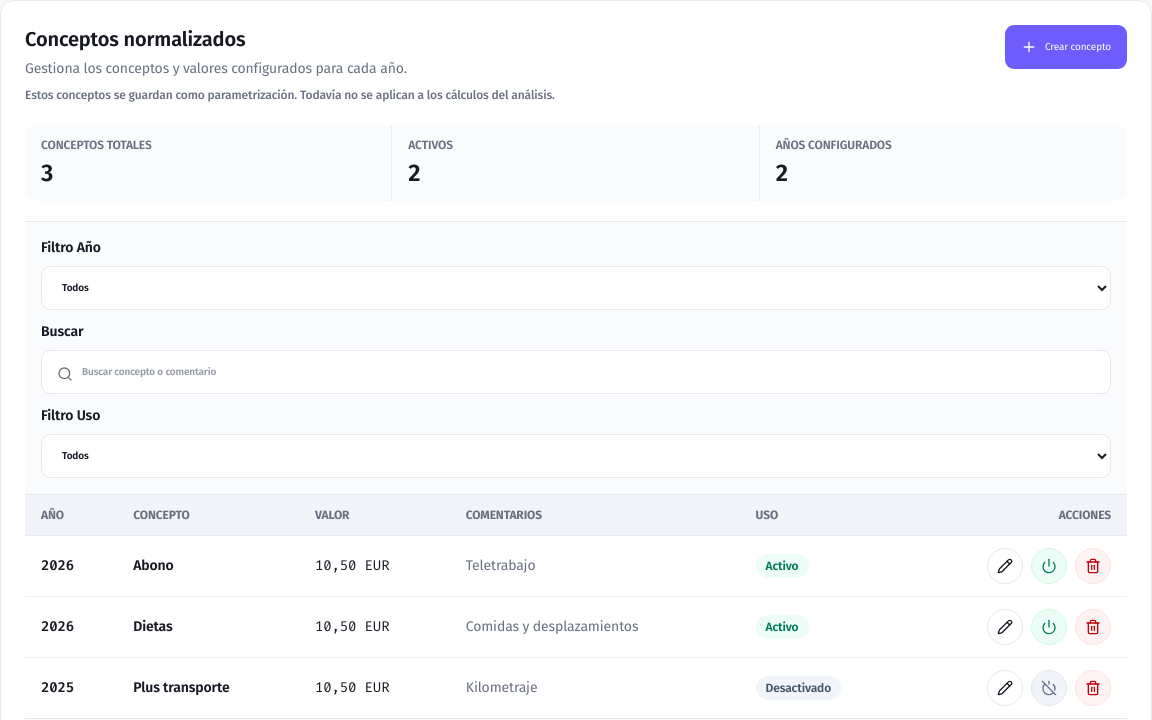
Scenario: NormalizedConceptsManager › filters by year, usage and normalized concept or comment search
Select "2025" in the dropdown labelled "Filtro Año". click: (576, 288)
box: [41, 266, 1111, 310]
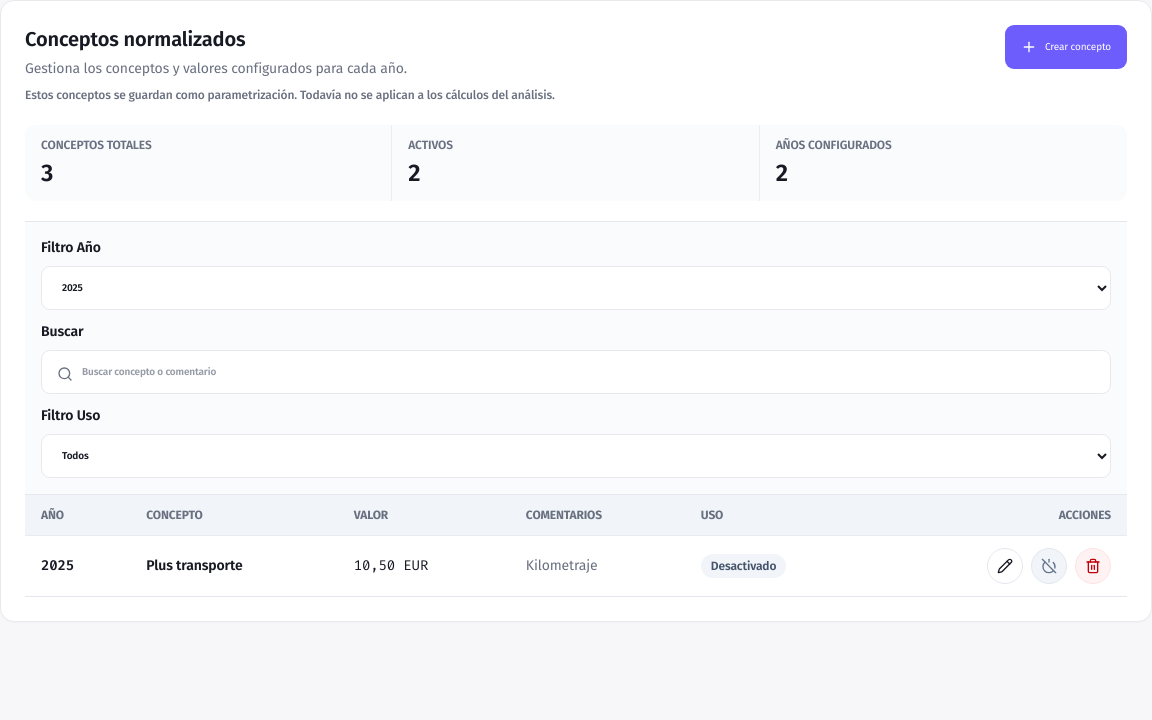
Expected: the text "Plus transporte" is shown, [130, 536, 338, 596]
Expected: the text "Dietas" is gone
Select "Todos" in the dropdown labelled "Filtro Año". click: (576, 288)
box: [41, 266, 1111, 310]
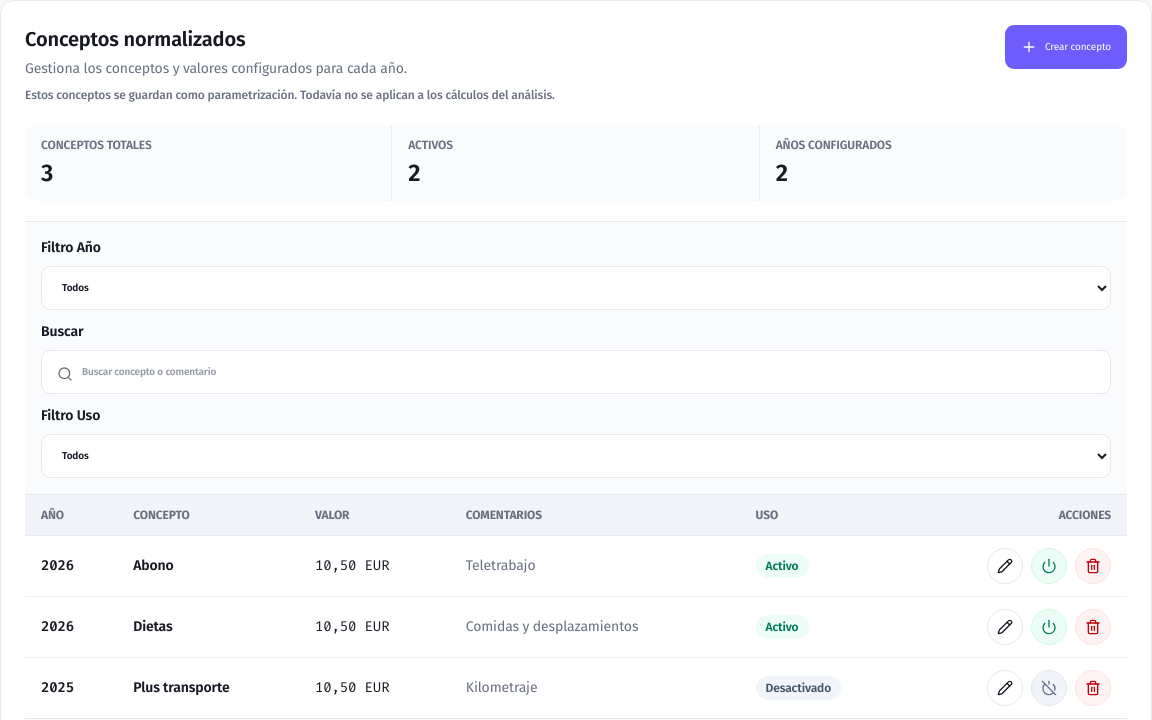
Select "Activos" in the dropdown labelled "Filtro Uso". click: (576, 456)
box: [41, 434, 1111, 478]
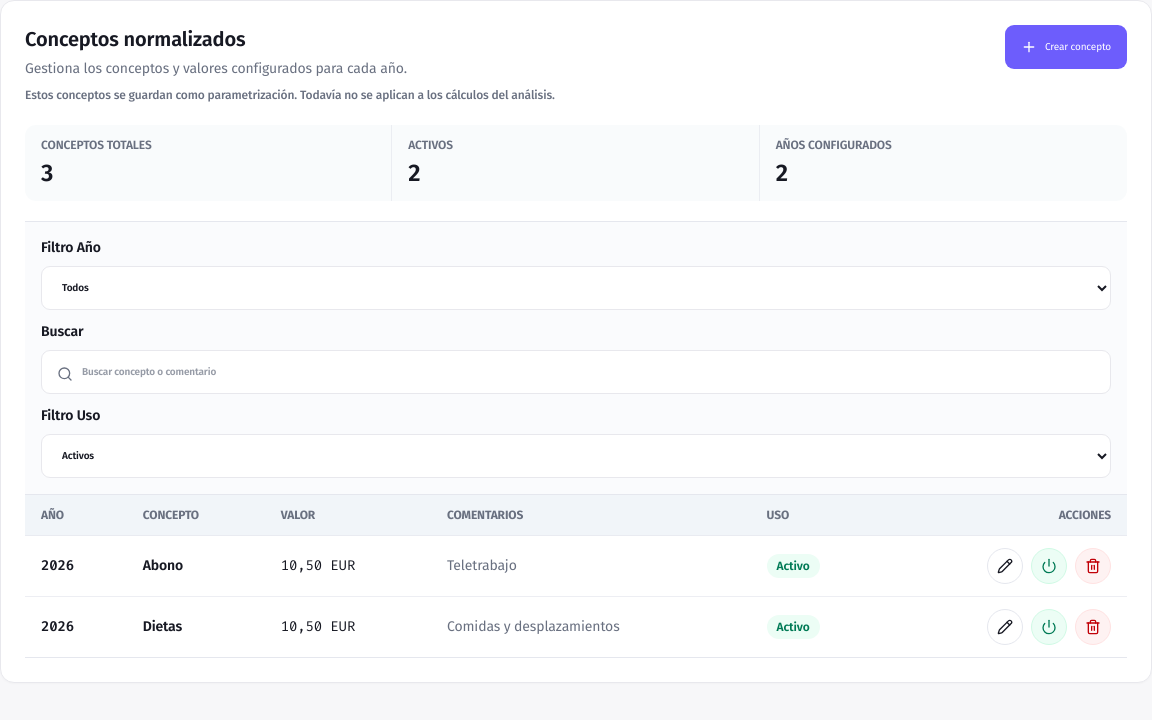
Expected: the text "Plus transporte" is gone
Select "Todos" in the dropdown labelled "Filtro Uso". click: (576, 456)
box: [41, 434, 1111, 478]
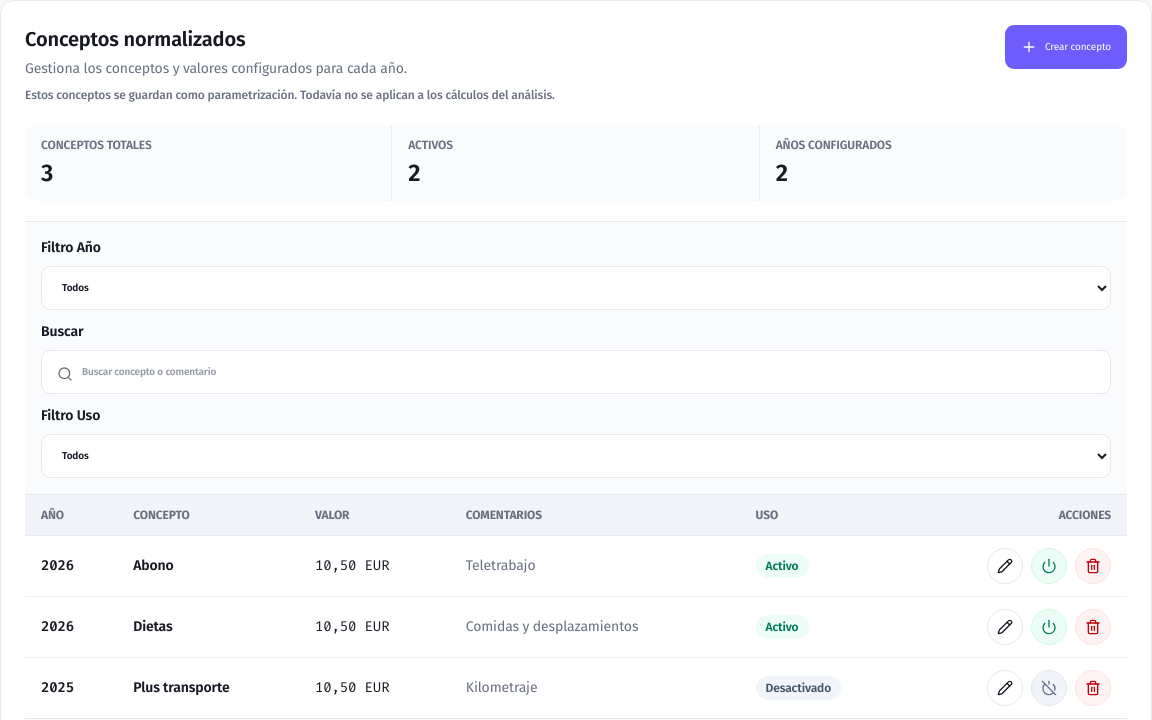
Type "TELETRÁBAJO" into the field with placeholder "Buscar concepto o comentario". click: (576, 372)
box: [41, 350, 1111, 394]
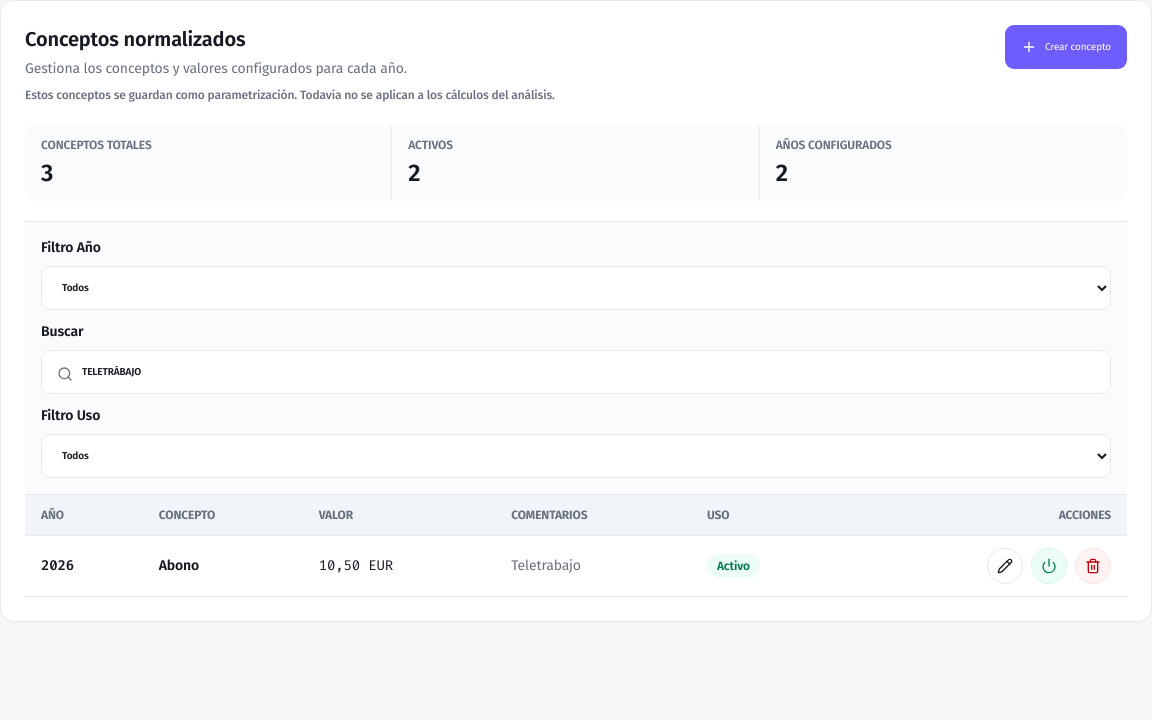
Expected: the text "Abono" is shown, [143, 536, 303, 596]
Expected: the text "Dietas" is gone
